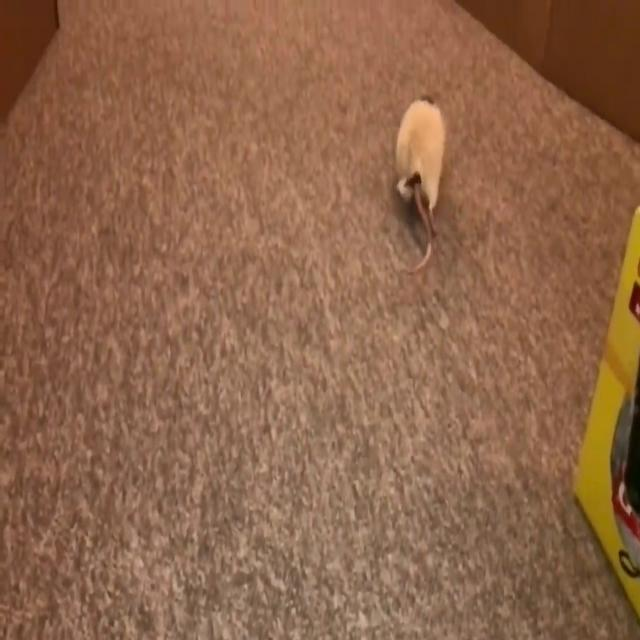rat: (392, 91, 447, 277)
